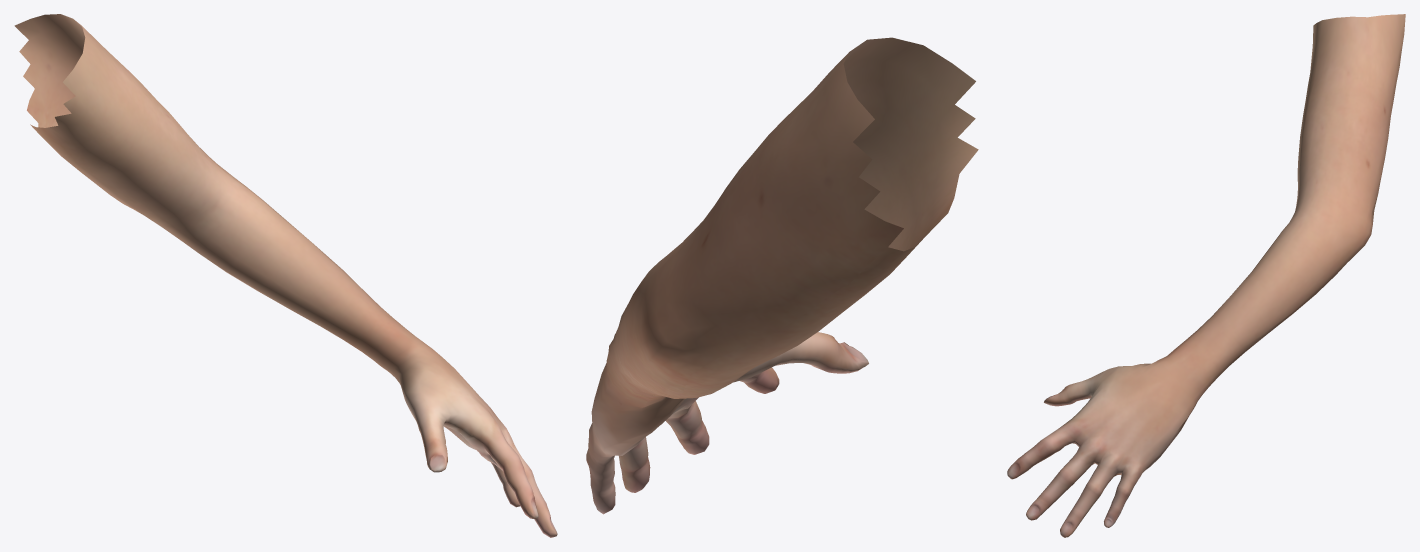
File: brazoIzquierdo.obj
3 views of the same model, side by side, from view 1: azimuth 30°, elevation 25°; view 2: azimuth 150°, elevation 25°; view 3: azimuth 270°, elevation 25° (orthographic). The views are drawn at different scales.
Parts seen in each view (by area): view 1: red_woman-base; view 2: red_woman-base; view 3: red_woman-base.
Boxes of the visible parts, bbox=[...] form: red_woman-base: bbox=[14, 14, 557, 537]; red_woman-base: bbox=[586, 37, 978, 514]; red_woman-base: bbox=[1007, 14, 1405, 537].
Bounding box in the file's own units: 3.42 × 4.26 × 3.91.
